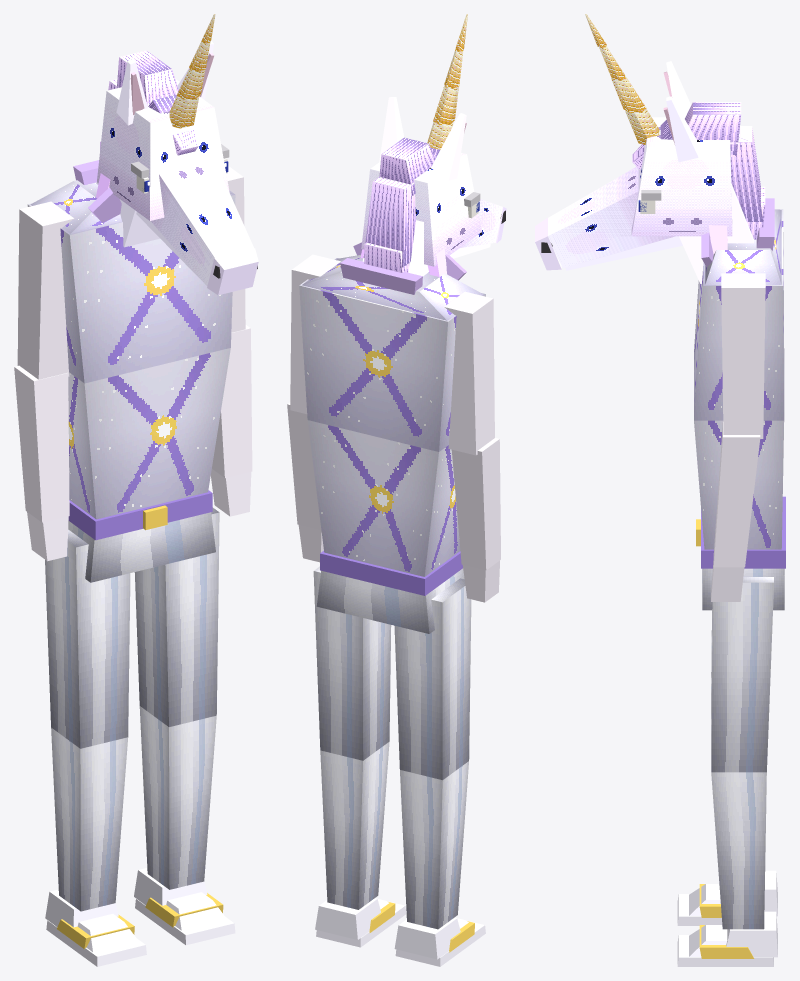
The model's file is npc_herd_1.glb.
3 renders of one model, left to right at view 1: azimuth 30°, elevation 25°; view 2: azimuth 150°, elevation 25°; view 3: azimuth 270°, elevation 25°, orthographic. The views are drawn at different scales.
Visible parts, largest first — view 1: body, legL, legR, head, armL, armR; view 2: body, legL, legR, head, armL, armR; view 3: head, legR, body, armR, legL.
Boxes of the visible parts, left/top/right/bottom form: body: left=27, top=160, right=235, bottom=582; legL: left=45, top=529, right=146, bottom=966; legR: left=134, top=507, right=235, bottom=945; head: left=96, top=14, right=258, bottom=295; armL: left=14, top=201, right=74, bottom=561; armR: left=210, top=166, right=252, bottom=516; body: left=299, top=242, right=485, bottom=633; legL: left=394, top=578, right=485, bottom=966; legR: left=313, top=566, right=406, bottom=947; head: left=360, top=14, right=506, bottom=276; armL: left=444, top=291, right=500, bottom=602; armR: left=287, top=254, right=340, bottom=562; head: left=535, top=14, right=765, bottom=283; legR: left=677, top=577, right=777, bottom=966; body: left=694, top=198, right=785, bottom=610; armR: left=711, top=273, right=765, bottom=601; legL: left=677, top=610, right=777, bottom=925.
Bounding box in the file's own units: 0.5417 × 2.32 × 0.5723.
Materials: 21 (5 with a texture image).
